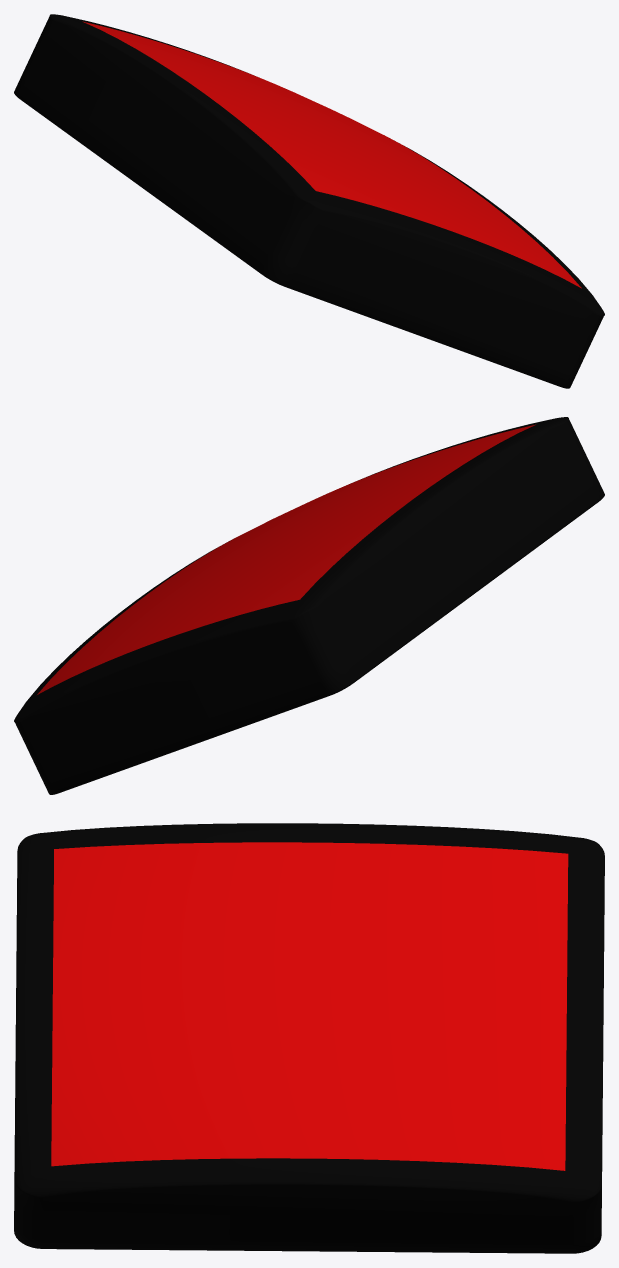
Rendered from SM_Screen_Mock_Horizontal.fbx.
3 renders of one model, top to bottom at view 1: azimuth 30°, elevation 25°; view 2: azimuth 150°, elevation 25°; view 3: azimuth 270°, elevation 25°, orthographic. The views are drawn at different scales.
Visible parts, largest first — view 1: screen-mock-horizontal; view 2: screen-mock-horizontal; view 3: screen-mock-horizontal.
Part boxes in pixels (<box>): screen-mock-horizontal: <box>14,14,604,388</box>; screen-mock-horizontal: <box>14,417,604,794</box>; screen-mock-horizontal: <box>14,823,604,1253</box>.
Bounding box in the file's own units: 28.83 × 21.2 × 38.82.
